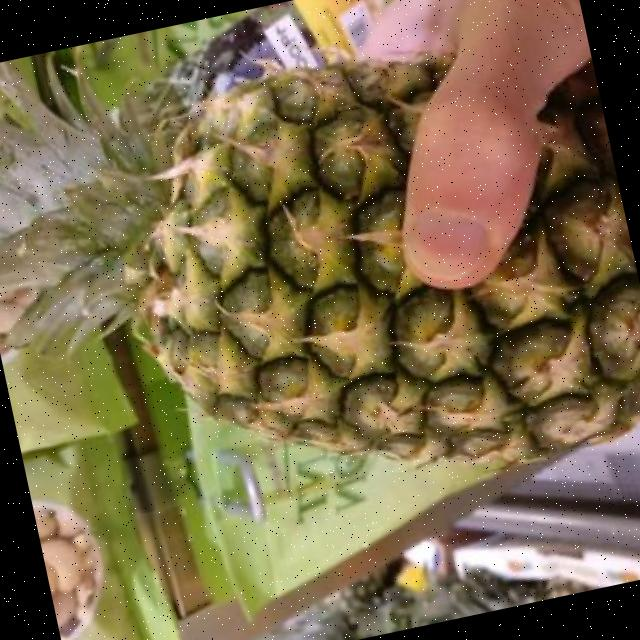pineapple: (0, 56, 640, 463)
